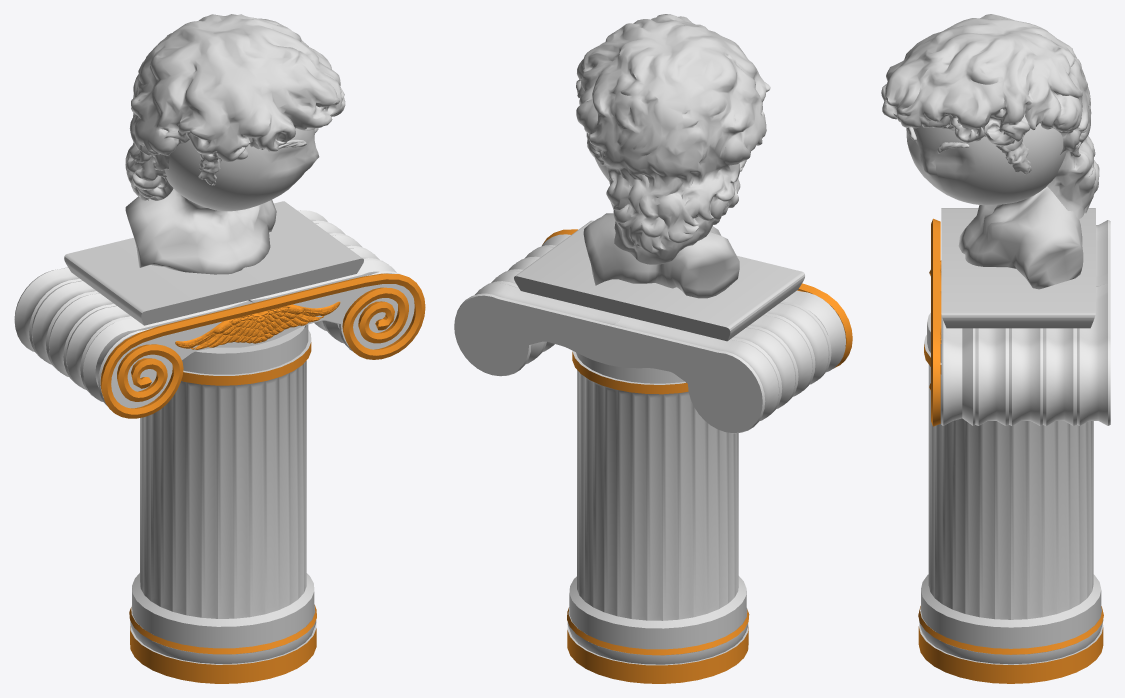
The model's file is headofdavid.fbx.
The picture shows the model from 3 angles, left to right: view 1: azimuth 30°, elevation 25°; view 2: azimuth 150°, elevation 25°; view 3: azimuth 270°, elevation 25°; orthographic projection. The views are drawn at different scales.
Visible parts, largest first — view 1: Cylinder, sac, Circle, kafa, Plane, NurbsPath.002, uploads_files_625896_wing_003+(1); view 2: Cylinder, sac, Circle, Plane, kafa, NurbsPath.002; view 3: Cylinder, sac, Circle, kafa, Plane, NurbsPath.002, /app/storage/app/raw/f3479520-7389-11ec-873d-5fe6ac4d76fe/s..
Boxes of the visible parts, bbox=[...] form: Cylinder: bbox=[129, 324, 316, 683]; sac: bbox=[125, 14, 345, 200]; Circle: bbox=[14, 210, 414, 408]; kafa: bbox=[125, 128, 319, 274]; Plane: bbox=[64, 201, 363, 325]; NurbsPath.002: bbox=[100, 273, 425, 418]; uploads_files_625896_wing_003+(1): bbox=[175, 301, 340, 349]; Cylinder: bbox=[567, 350, 749, 683]; sac: bbox=[576, 14, 770, 264]; Circle: bbox=[454, 234, 845, 433]; Plane: bbox=[514, 220, 804, 341]; kafa: bbox=[583, 158, 739, 298]; NurbsPath.002: bbox=[542, 229, 852, 367]; Cylinder: bbox=[918, 313, 1103, 683]; sac: bbox=[881, 14, 1099, 219]; Circle: bbox=[941, 220, 1110, 425]; kafa: bbox=[906, 123, 1083, 289]; Plane: bbox=[941, 208, 1095, 328]; NurbsPath.002: bbox=[929, 218, 940, 426]; /app/storage/app/raw/f3479520-7389-11ec-873d-5fe6ac4d76fe/s.: bbox=[996, 133, 1031, 174].
Bounding box in the file's own units: 291 × 536 × 181.
